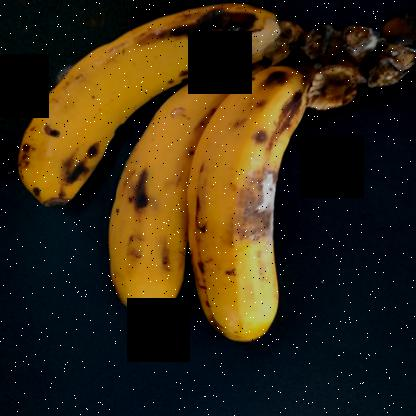overripe: (9, 0, 290, 222), (86, 74, 250, 332), (200, 76, 304, 356)
